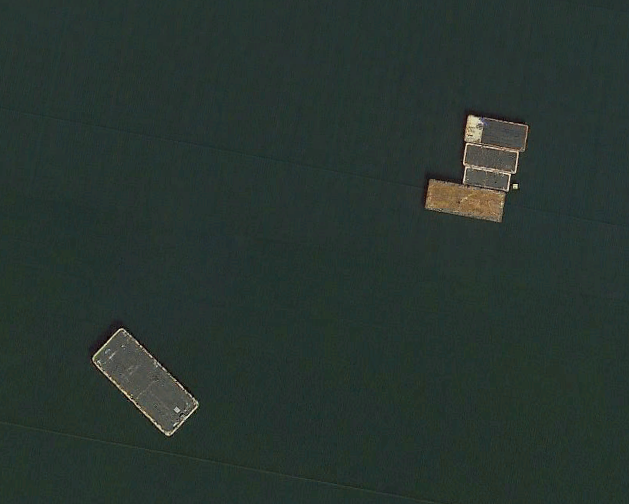platform: (87, 322, 207, 447), (420, 175, 510, 229), (458, 109, 534, 153), (456, 139, 523, 177), (459, 163, 516, 195)
